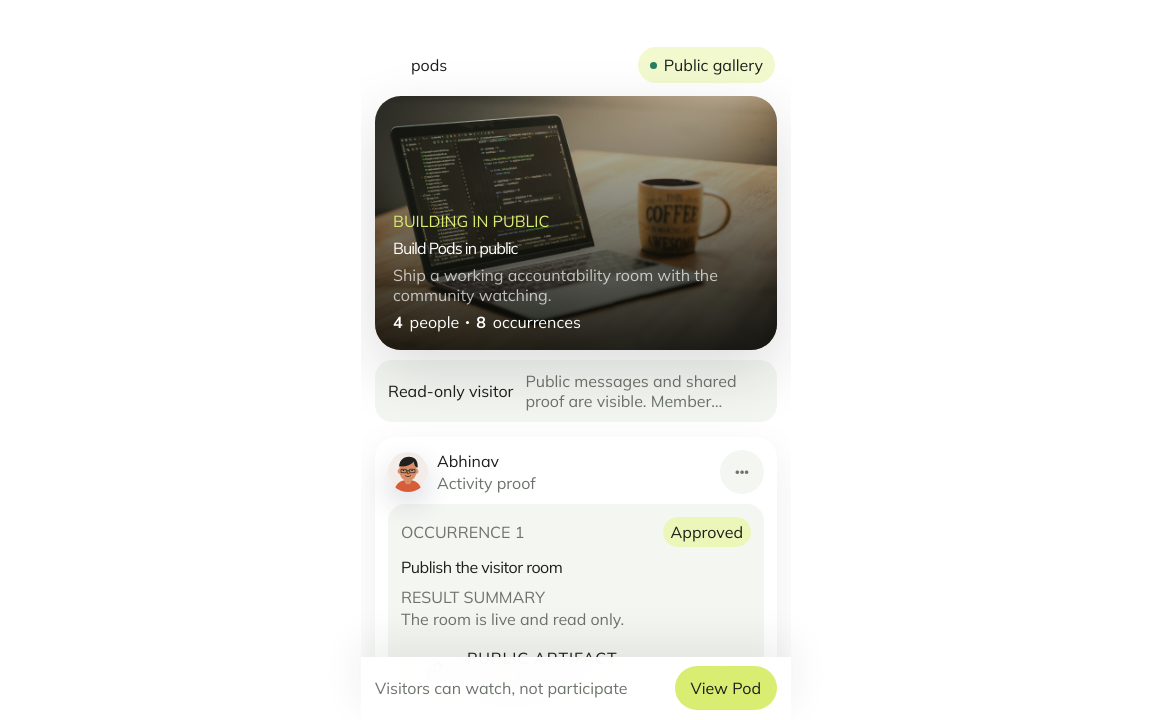
PublicVisitorRoom › lets a signed visitor privately report public content without gaining room controls
Click the button named "Report proof by Abhinav" at (742, 472), box x1=720 y1=450 x2=764 y2=494
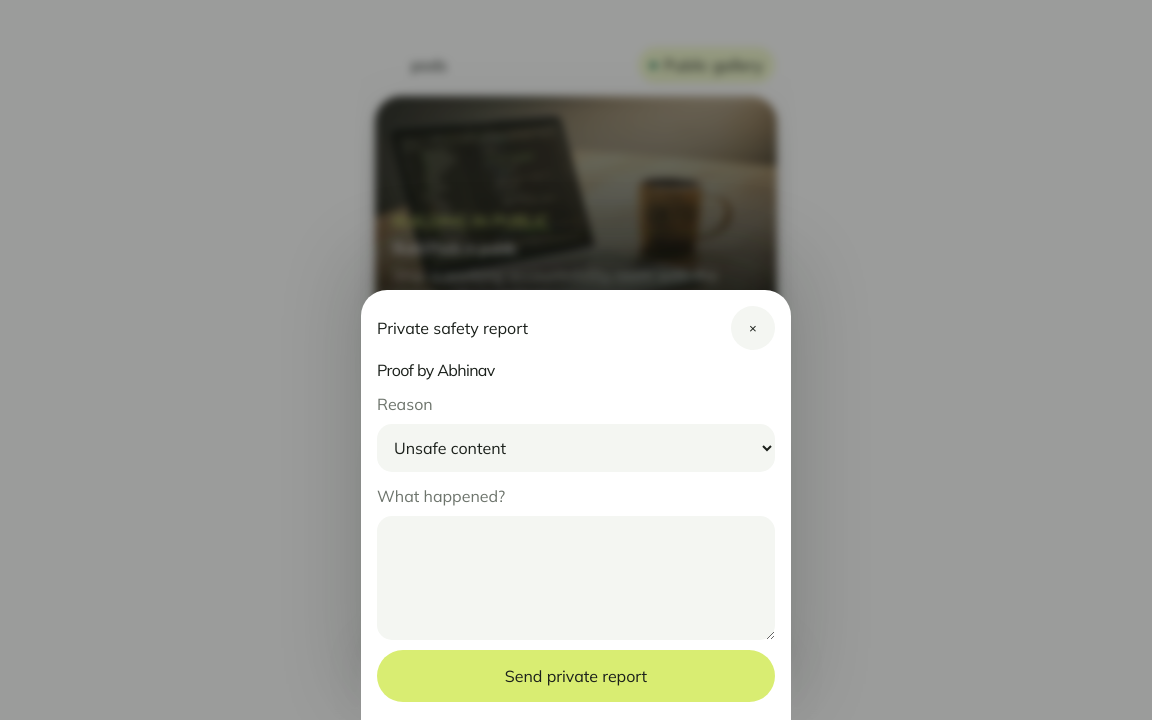
Result: the dialog named "Report public content" is shown at x1=361 y1=290 x2=791 y2=719
Result: the button named "Close report dialog" is shown
Type "This proof needs a safety review." into the text box labelled "What happened?" at (576, 578), box x1=377 y1=516 x2=775 y2=640
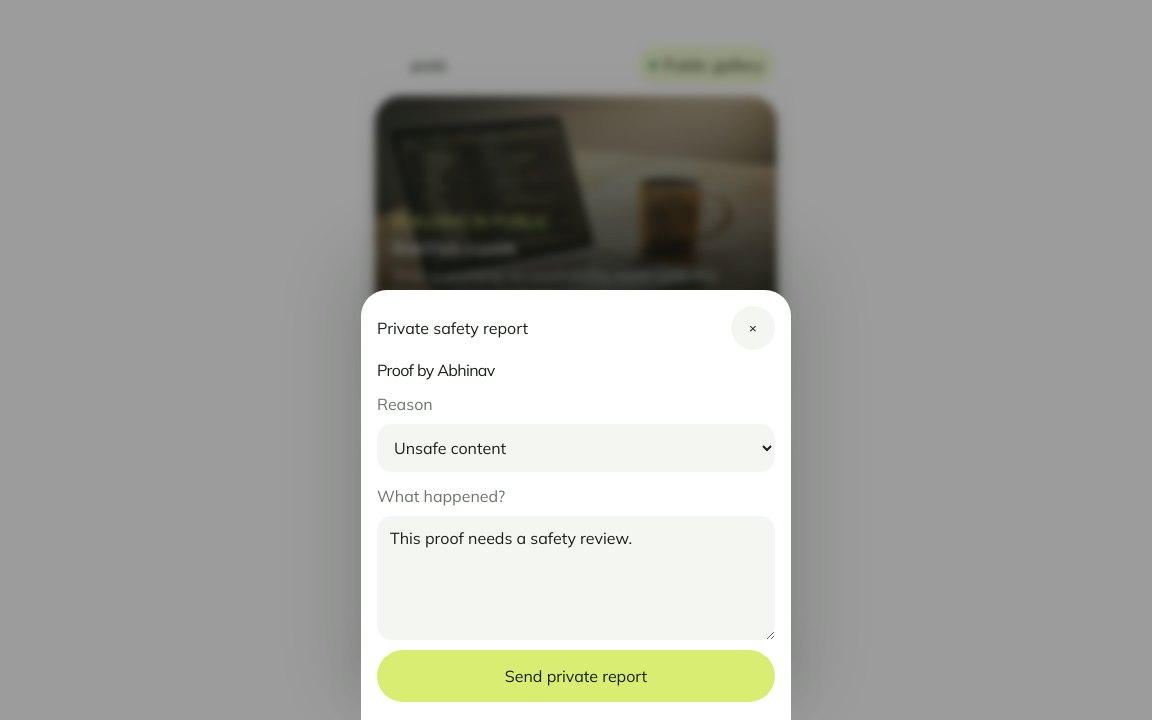
Click the button "Send private report" at (576, 676), box x1=377 y1=650 x2=775 y2=702
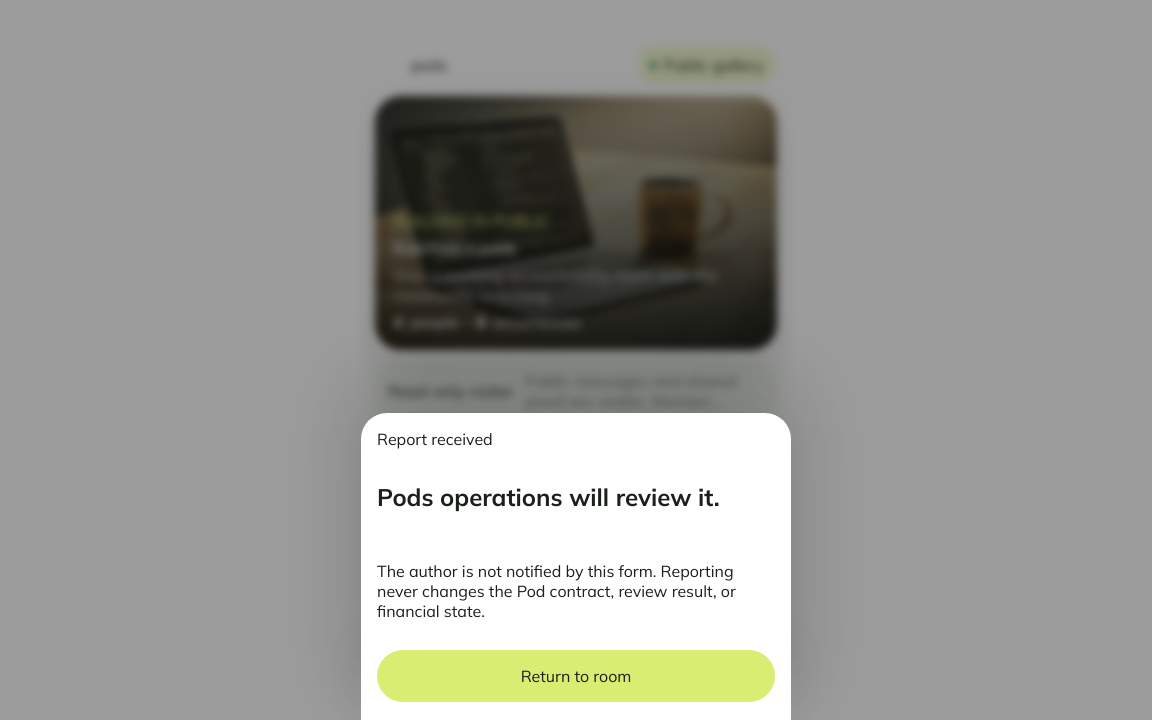
Result: the text "Report received" is shown at x1=377 y1=429 x2=493 y2=449
